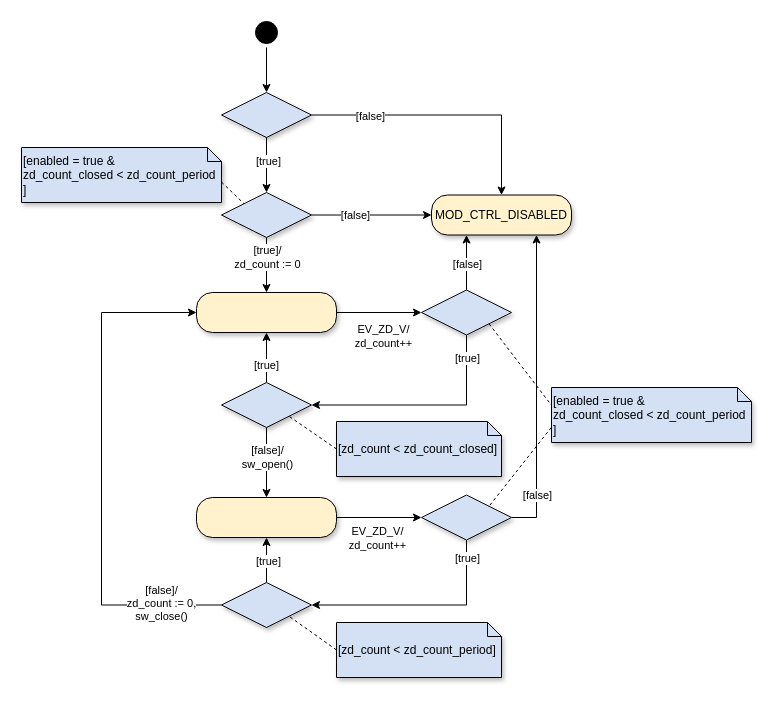
Image size: 775x702. Some labels were removed from this diagram. Here are the shapes that lost their labels. From the top down, the centre of each, then its label:
At (x=267, y=116): "ac_supply".
At (x=267, y=314): "MOD_CTRL_CLOSED".
At (x=267, y=518): "MOD_CTRL_OPENED".
